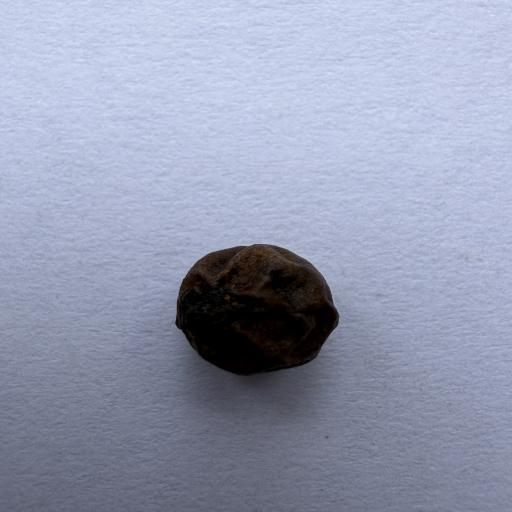Black_pepper: (161, 218, 372, 392)
